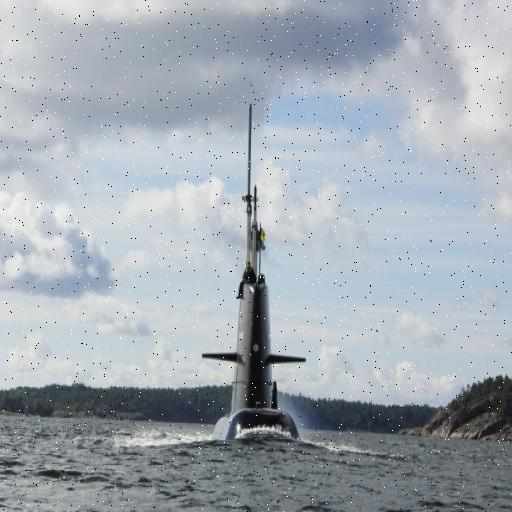submarine: (201, 86, 303, 439)
